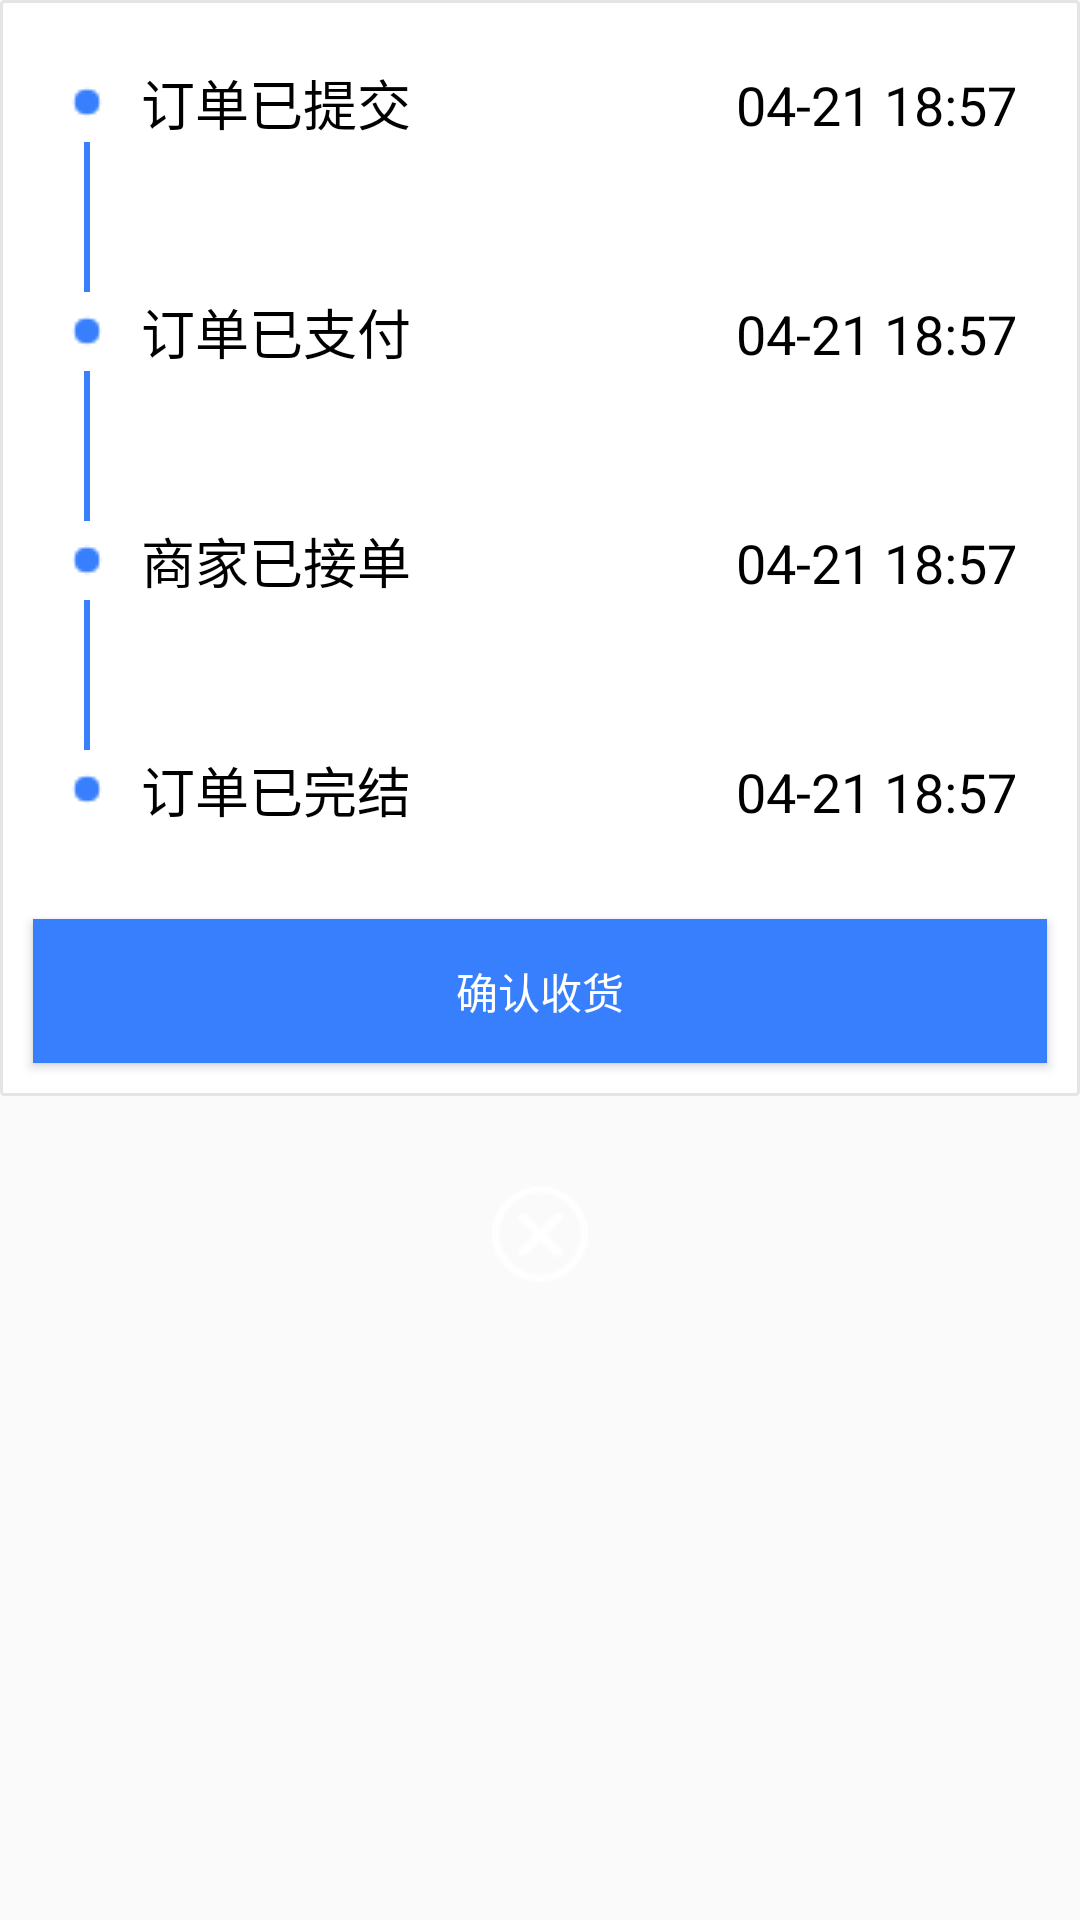

Named icons in this screenshot (1080×1920) and their bounding boxes, [left=x1, top=y1, right=x2, bottom=y2]:
point: [left=74, top=89, right=100, bottom=115], [left=74, top=318, right=100, bottom=344], [left=74, top=547, right=100, bottom=573], [left=74, top=776, right=100, bottom=802]
